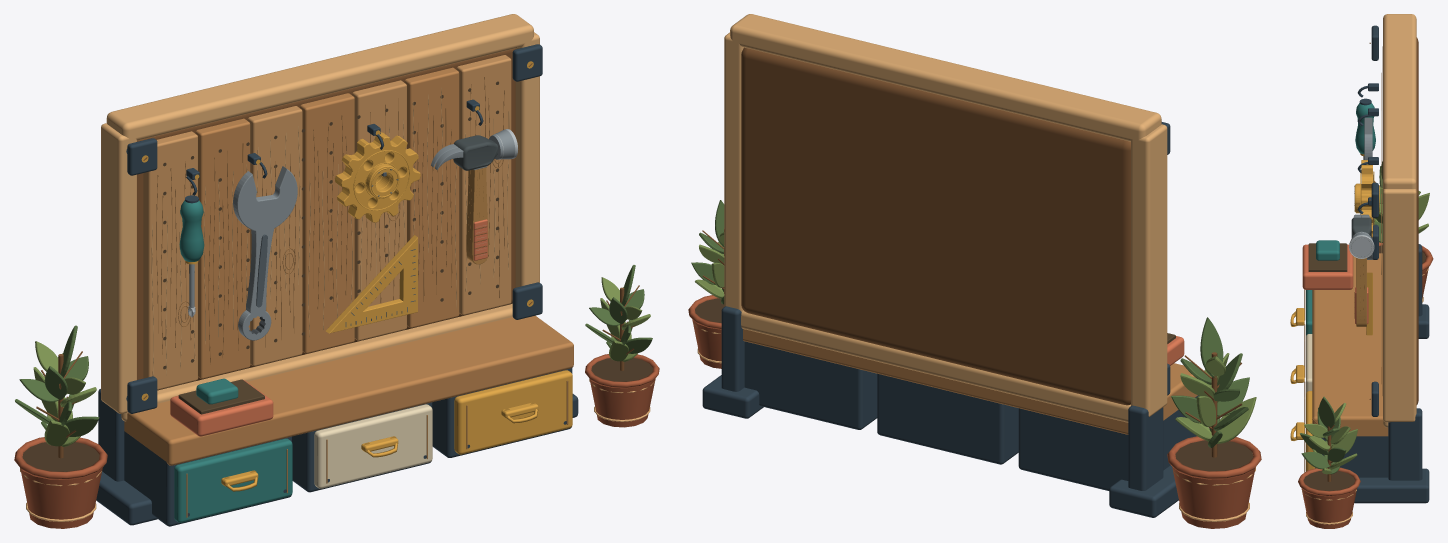
File: workshop-tool-rack-final.glb
3 renders of one model, left to right at view 1: azimuth 30°, elevation 25°; view 2: azimuth 150°, elevation 25°; view 3: azimuth 270°, elevation 25°, orthographic. The views are drawn at different scales.
Parts seen in each view (by area): view 1: timber, plank, edge, brass (×3), navy, pot (×2), teal, cream, grain, darkWood, steel, grainLight (+6 smaller); view 2: darkWood, edge, navy, pot (×2), timber, soil, Leaf_8, Leaf_1; view 3: edge, timber, navy, pot (×2), brass (×3), coral, darkWood, teal, soil, Wood_Handle, shadow, Teal_Handle (+13 smaller).
Boxes of the visible parts, x1,y1,x2,y2 form: timber: [124, 67, 573, 465]; plank: [143, 55, 511, 389]; edge: [101, 14, 539, 421]; brass (×3): [141, 61, 572, 491]; navy: [96, 44, 578, 526]; pot (×2): [14, 354, 659, 528]; teal: [174, 378, 292, 522]; cream: [314, 404, 432, 488]; grain: [156, 77, 568, 517]; darkWood: [137, 48, 532, 398]; steel: [233, 166, 297, 340]; grainLight: [151, 88, 509, 375]; darkWood: [741, 47, 1130, 405]; edge: [724, 14, 1167, 422]; navy: [702, 122, 1199, 517]; pot (×2): [688, 295, 1261, 528]; timber: [743, 329, 1197, 434]; soil: [1175, 440, 1253, 471]; Leaf_8: [1200, 317, 1223, 377]; Leaf_1: [1217, 397, 1256, 443]; edge: [1383, 14, 1416, 427]; timber: [1312, 68, 1388, 436]; navy: [1315, 25, 1429, 503]; pot (×2): [1298, 242, 1433, 528]; brass (×3): [1290, 160, 1379, 471]; coral: [1302, 244, 1353, 289]; darkWood: [1354, 37, 1418, 404]; teal: [1306, 240, 1339, 335]; soil: [1303, 470, 1355, 490]; Wood_Handle: [1356, 258, 1366, 326]; shadow: [1308, 243, 1347, 271]; Teal_Handle: [1355, 103, 1375, 154].
Bounding box in the file's own units: 2.04 × 1.25 × 0.5082.
